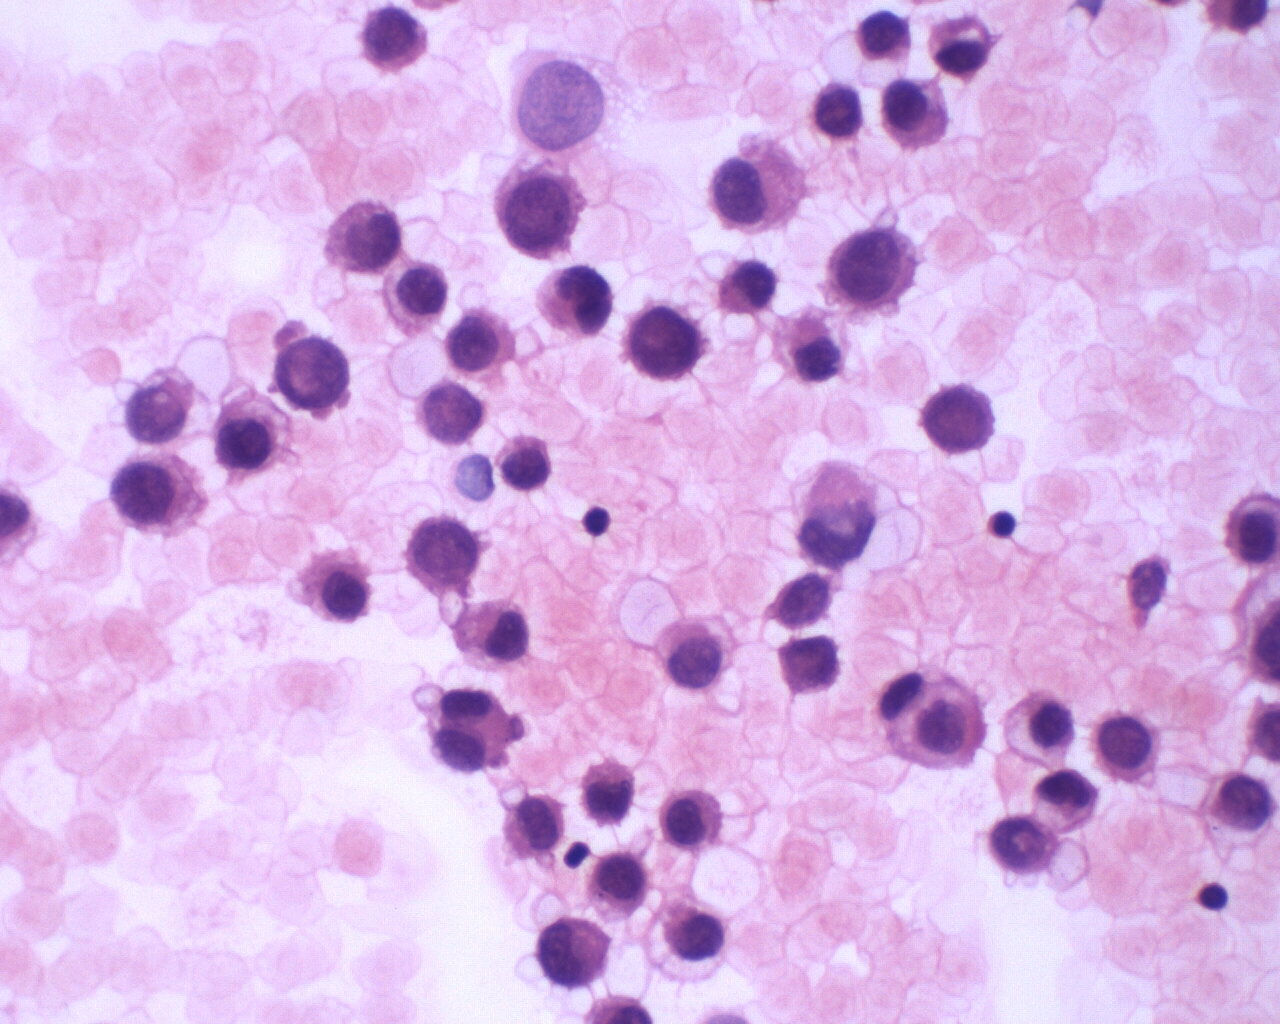ab: (491, 161, 588, 265), (824, 225, 923, 321), (109, 451, 211, 542), (619, 297, 707, 383), (315, 195, 408, 276), (915, 376, 1002, 460), (400, 511, 481, 596), (534, 910, 616, 992), (415, 375, 490, 456), (1087, 709, 1166, 785), (360, 3, 438, 78), (442, 305, 517, 378), (987, 810, 1064, 879), (586, 850, 653, 922), (767, 571, 835, 631), (853, 6, 915, 69), (811, 80, 865, 141)
lymph: (577, 498, 618, 540), (985, 505, 1019, 545), (1194, 879, 1233, 912)
meso: (880, 74, 956, 150), (657, 786, 725, 855)
